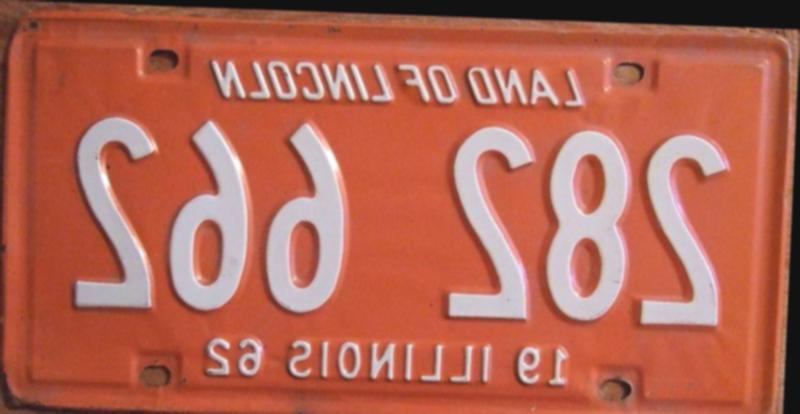License_Plate: (1, 14, 783, 414)
